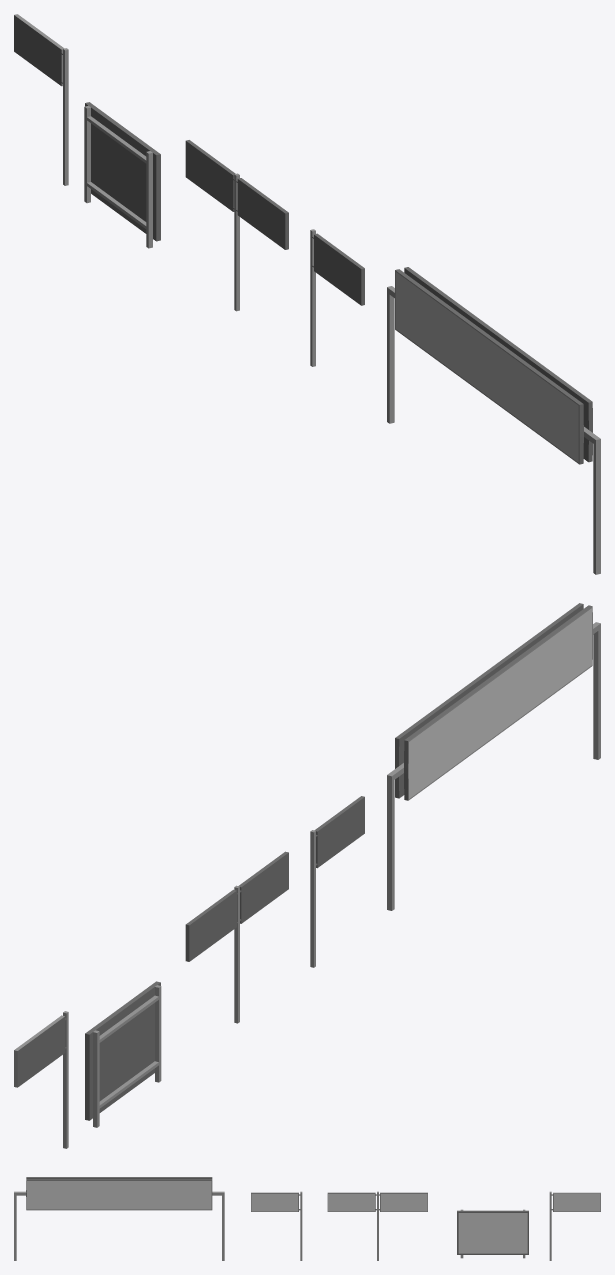
The model's file is LetrerosCaminos.fbx.
3 renders of one model, top to bottom at view 1: azimuth 30°, elevation 25°; view 2: azimuth 150°, elevation 25°; view 3: azimuth 270°, elevation 25°, orthographic. The views are drawn at different scales.
Visible parts, largest first — view 1: IL_1, IL_4, IL_2, IL_5, IL_3; view 2: IL_1, IL_4, IL_2, IL_3, IL_5; view 3: IL_1, IL_4, IL_2, IL_3, IL_5.
Boxes of the visible parts, box(x1,y1,x2,y2) form: IL_1: box(387, 267, 600, 574); IL_4: box(84, 102, 160, 248); IL_2: box(185, 140, 288, 311); IL_5: box(14, 14, 68, 185); IL_3: box(310, 229, 364, 366); IL_1: box(387, 603, 600, 910); IL_4: box(85, 981, 161, 1127); IL_2: box(185, 851, 288, 1023); IL_3: box(310, 796, 364, 967); IL_5: box(14, 1011, 68, 1148); IL_1: box(14, 1177, 224, 1260); IL_4: box(457, 1209, 528, 1258); IL_2: box(327, 1191, 427, 1260); IL_3: box(251, 1191, 302, 1260); IL_5: box(549, 1191, 600, 1260).
Size of the model in its own units: 161 by 1882 by 12250.
